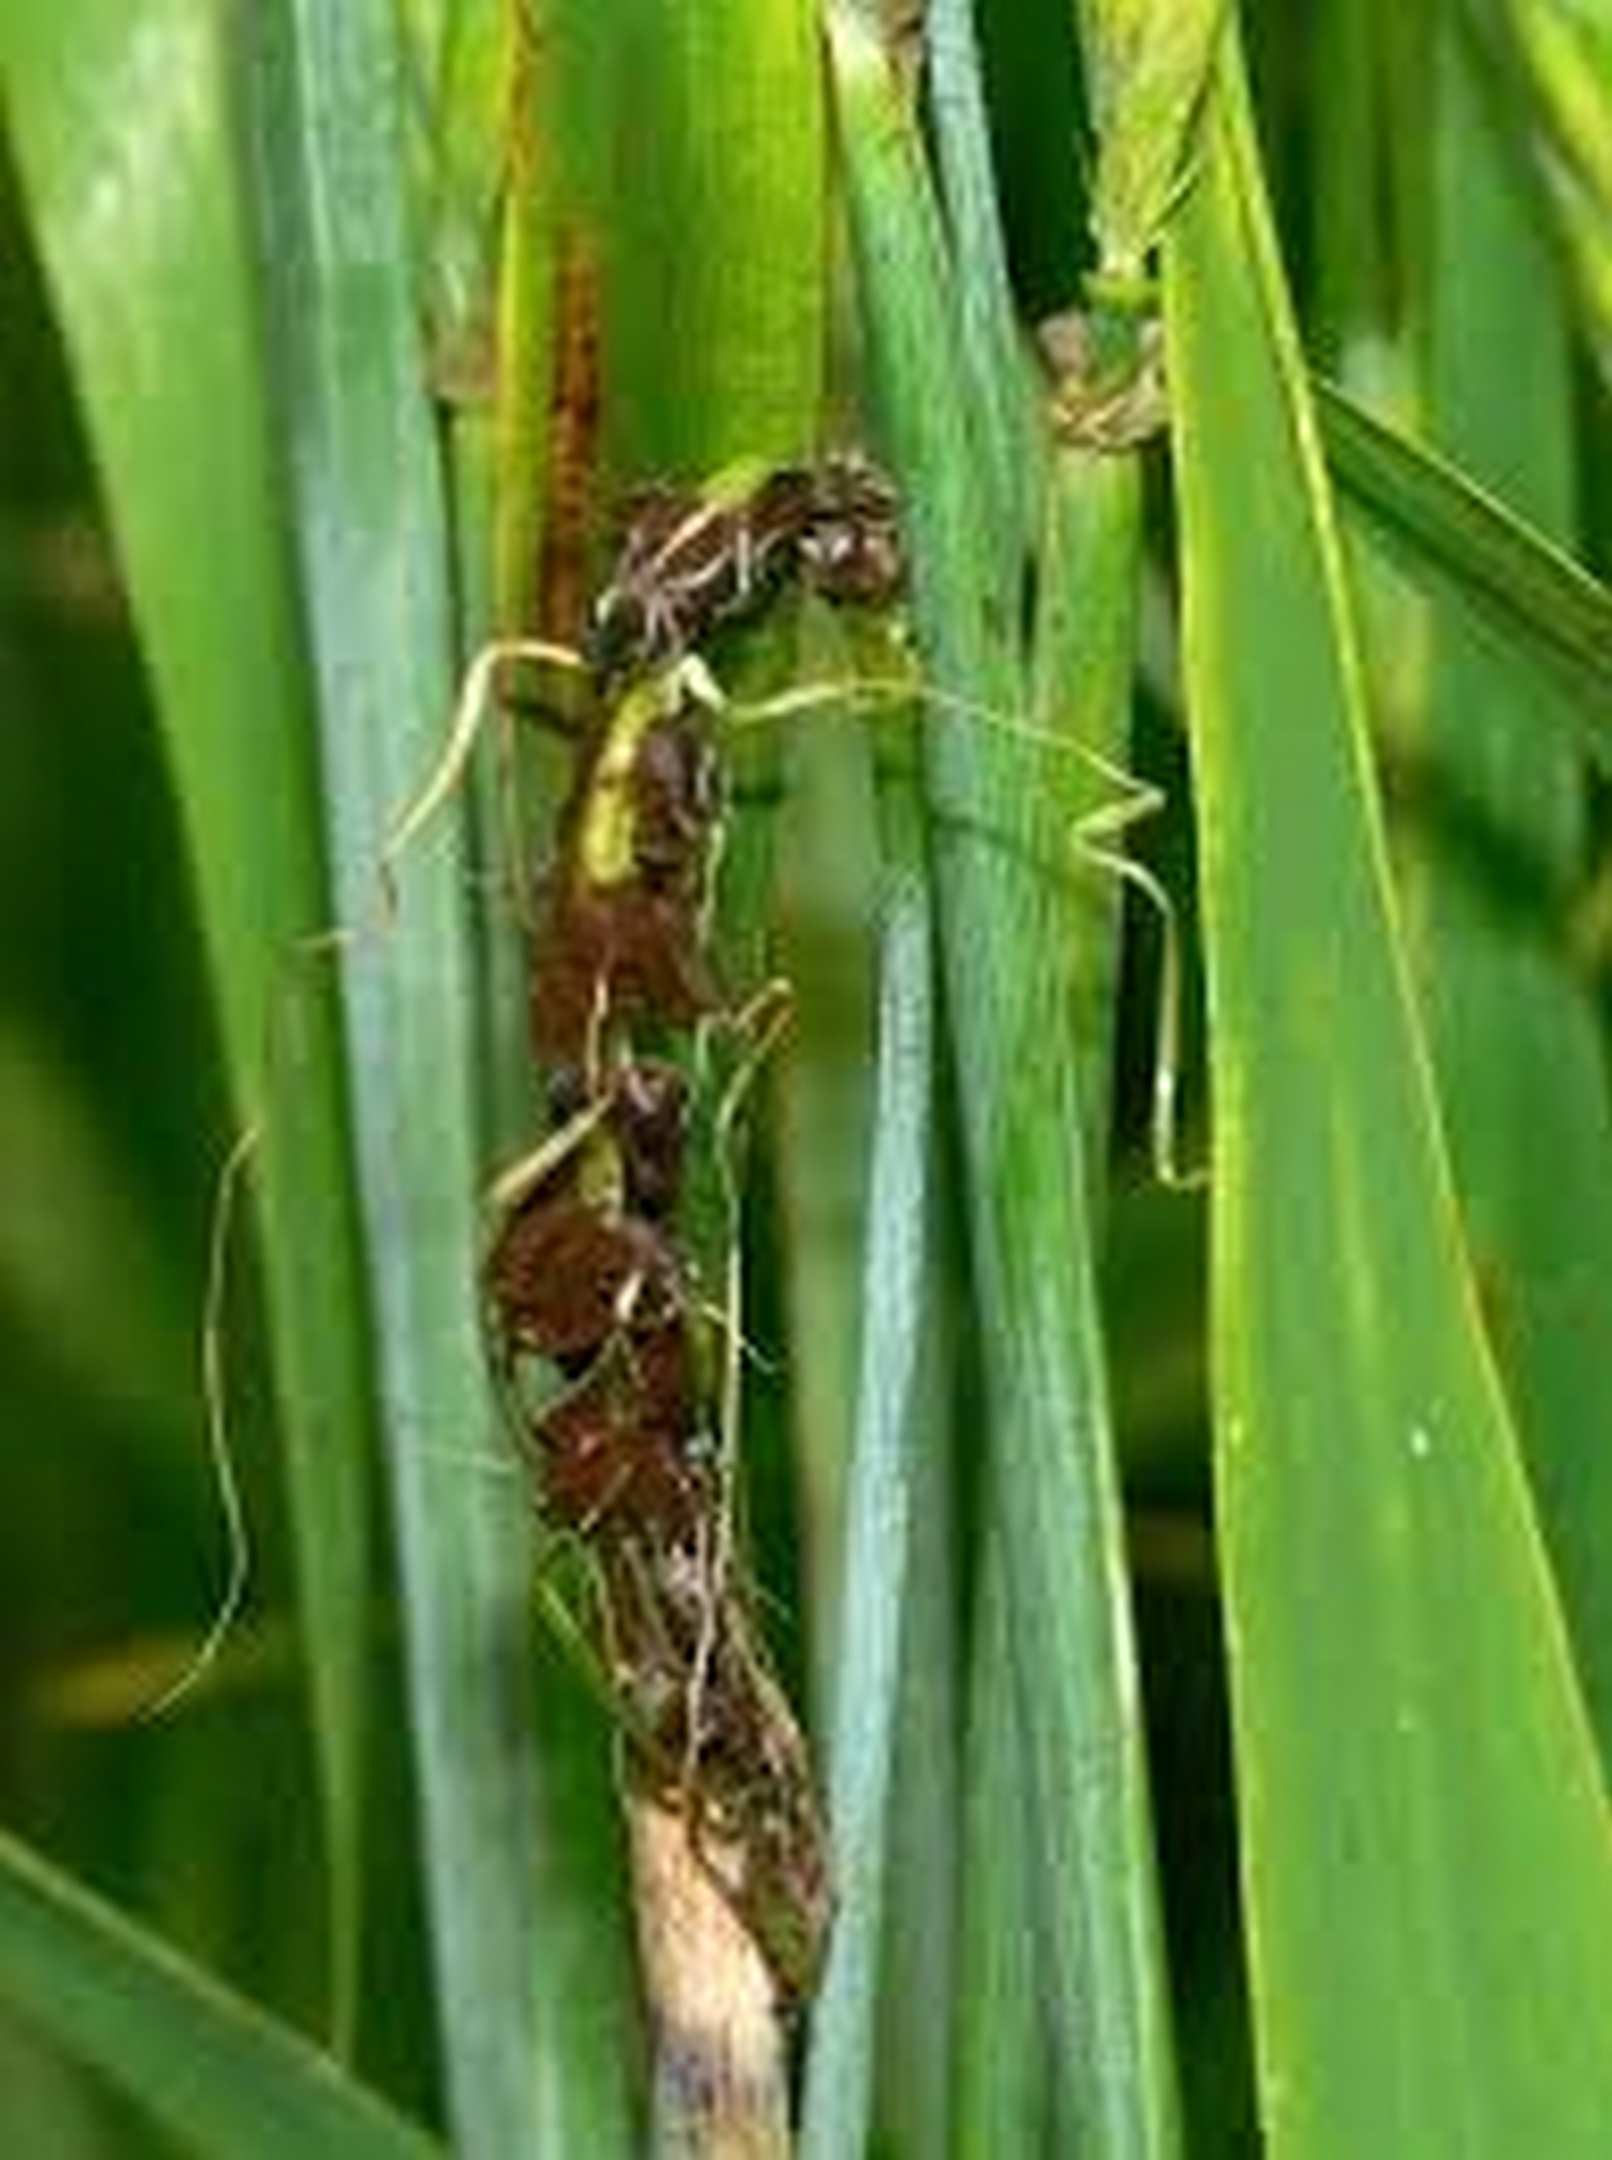Wheat Loose Smut: (457, 391, 923, 1871)
